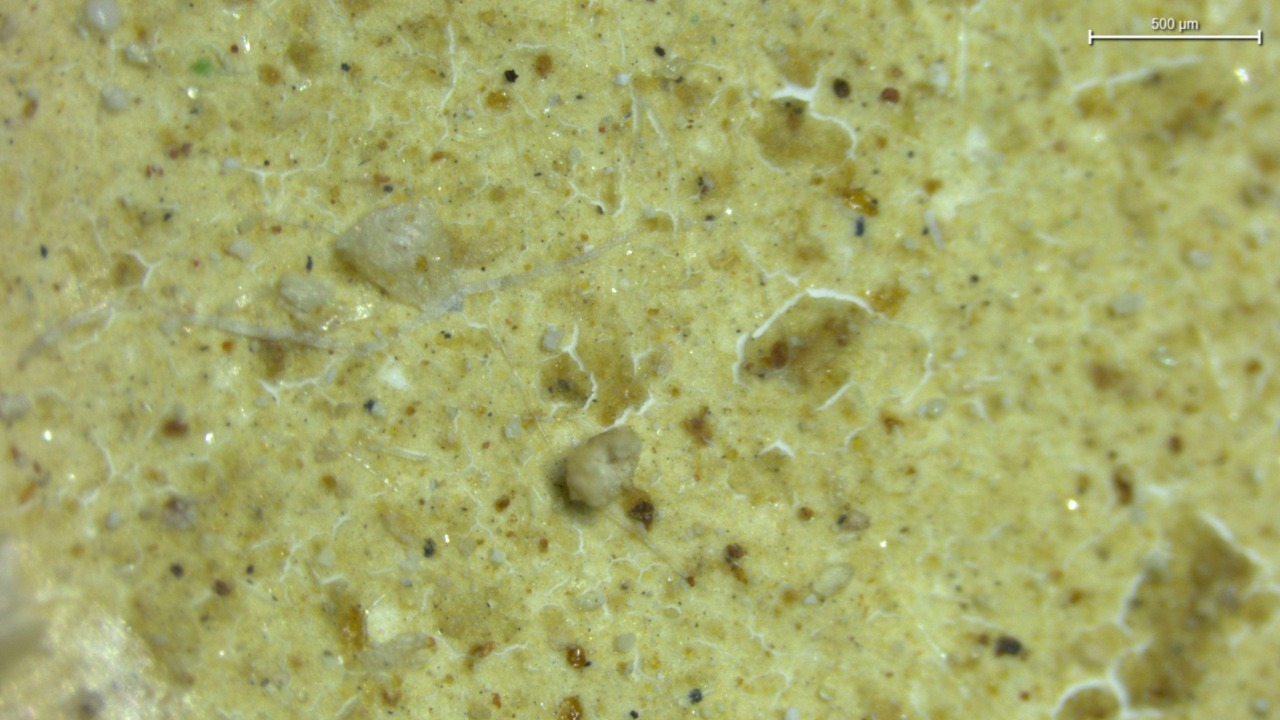microplastic_fragment: (562, 426, 642, 508)
